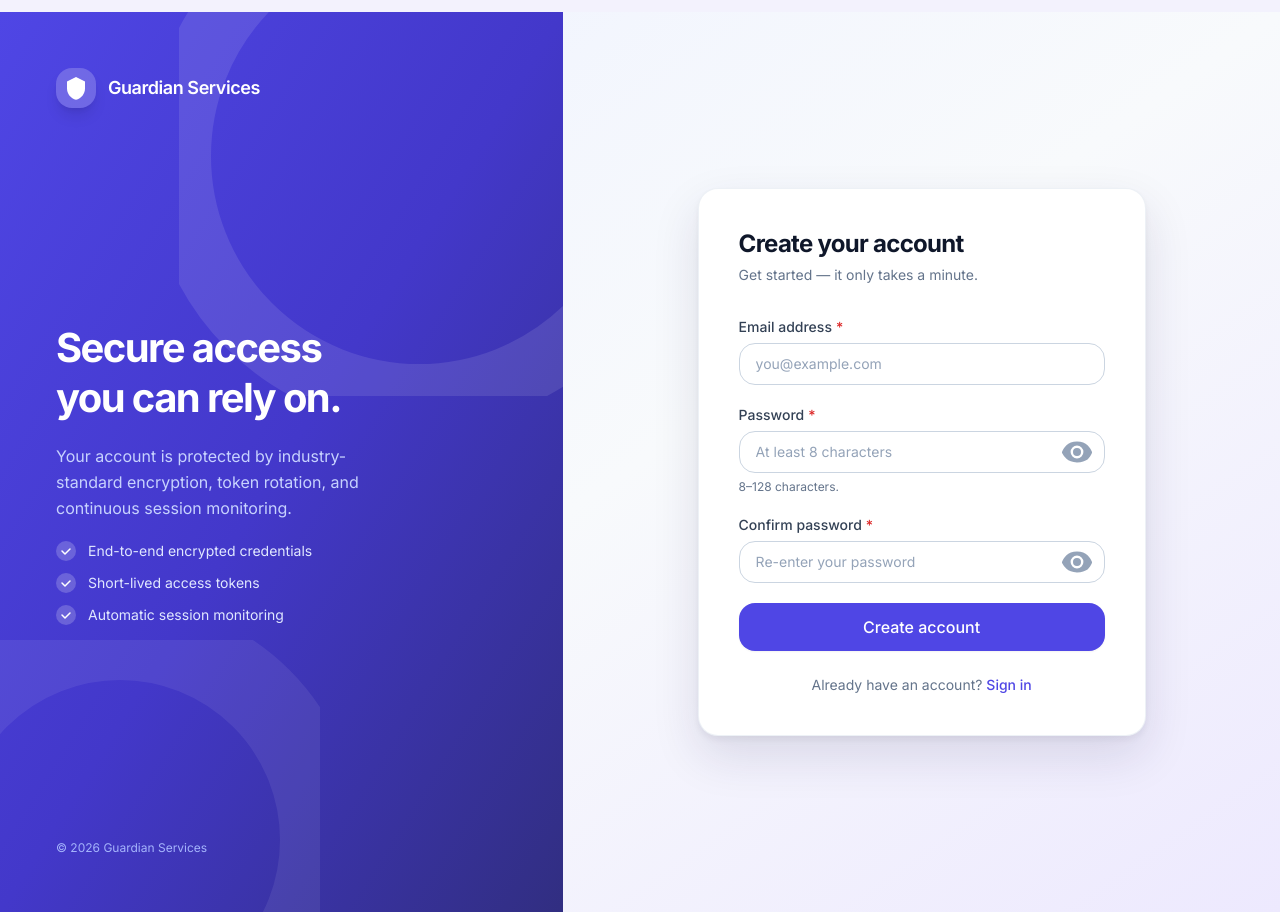
Test case: RegisterPage › shows error when passwords do not match
Type "test@example.com" into the field labelled "Email address*".
click(922, 364); type("test@example.com")  # box [739,343,1105,385]
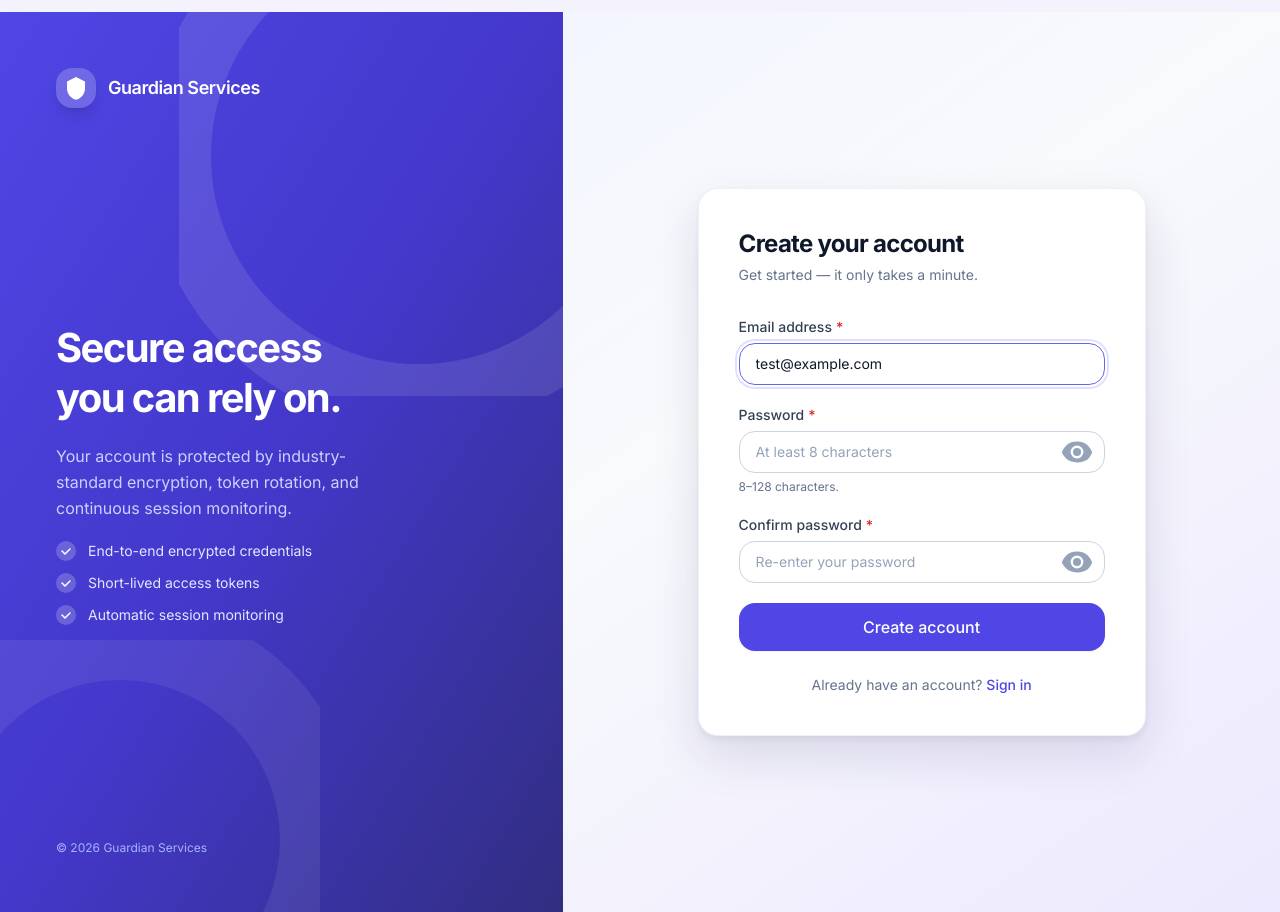
Type "Password1!" into the password field labelled "Password*".
click(922, 452); type("Password1!")  # box [739,431,1105,473]
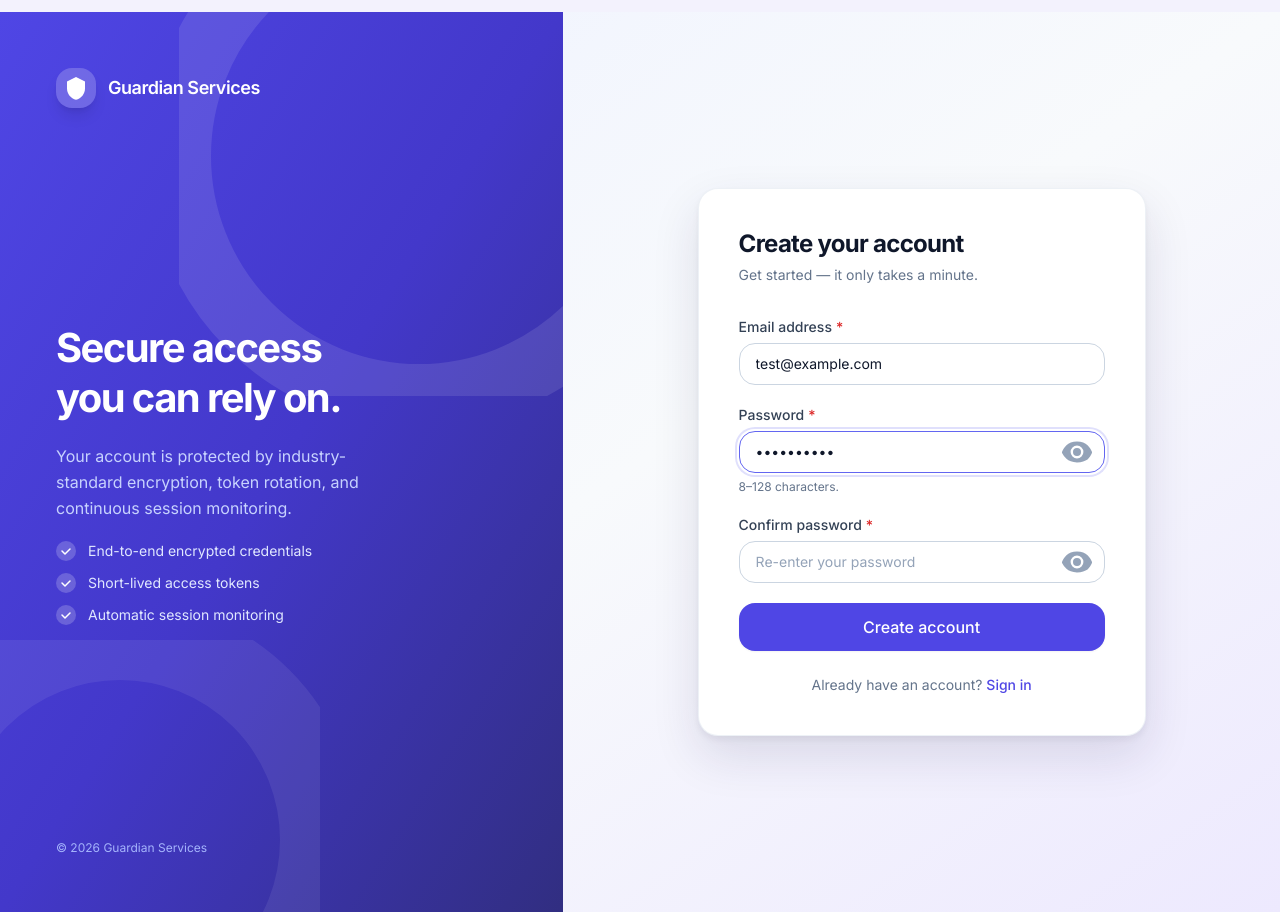
Type "DifferentPassword!" into the password field labelled "Confirm password*".
click(922, 562); type("DifferentPassword!")  # box [739,541,1105,583]
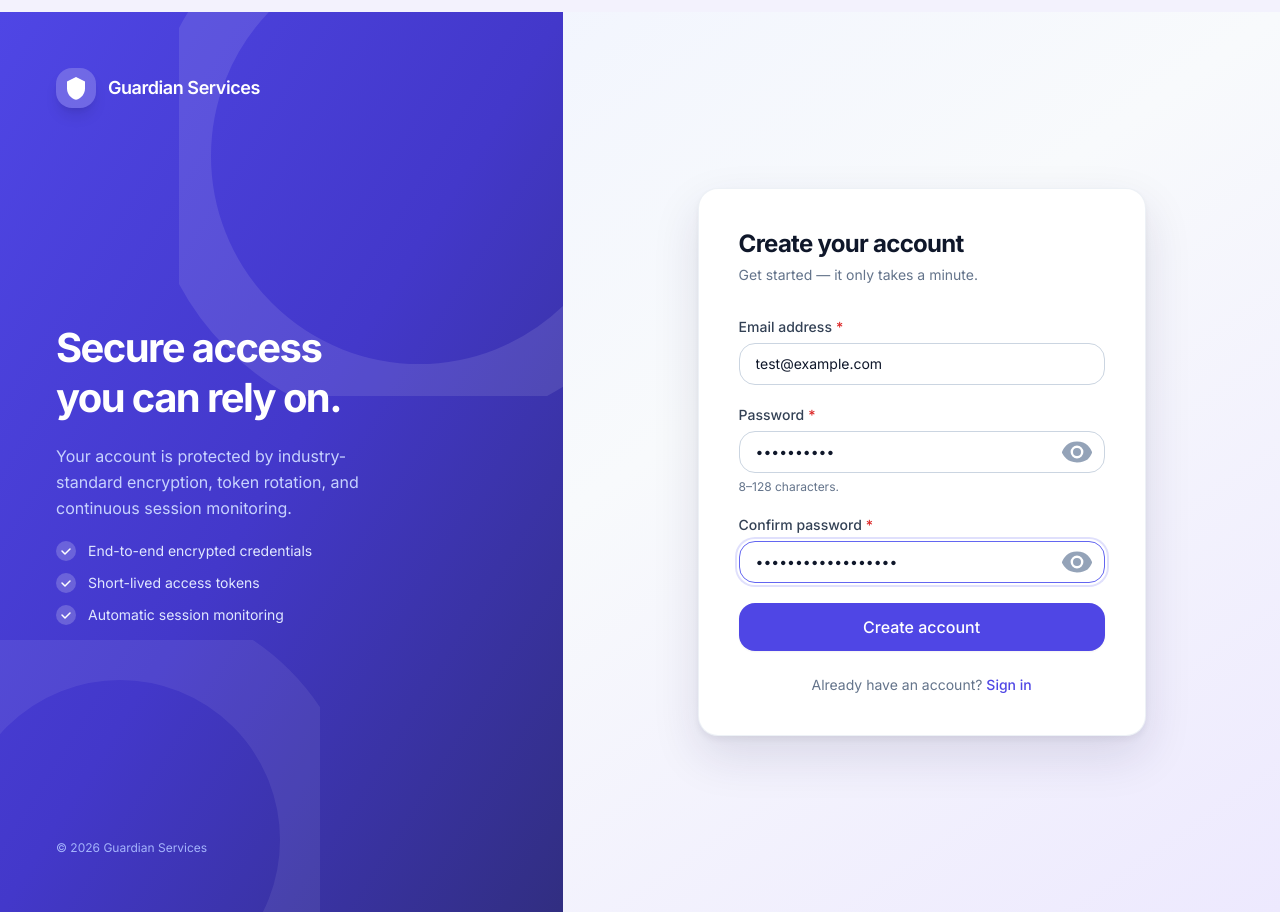
Click the button "Create account".
click(922, 627)  # box [739,603,1105,651]
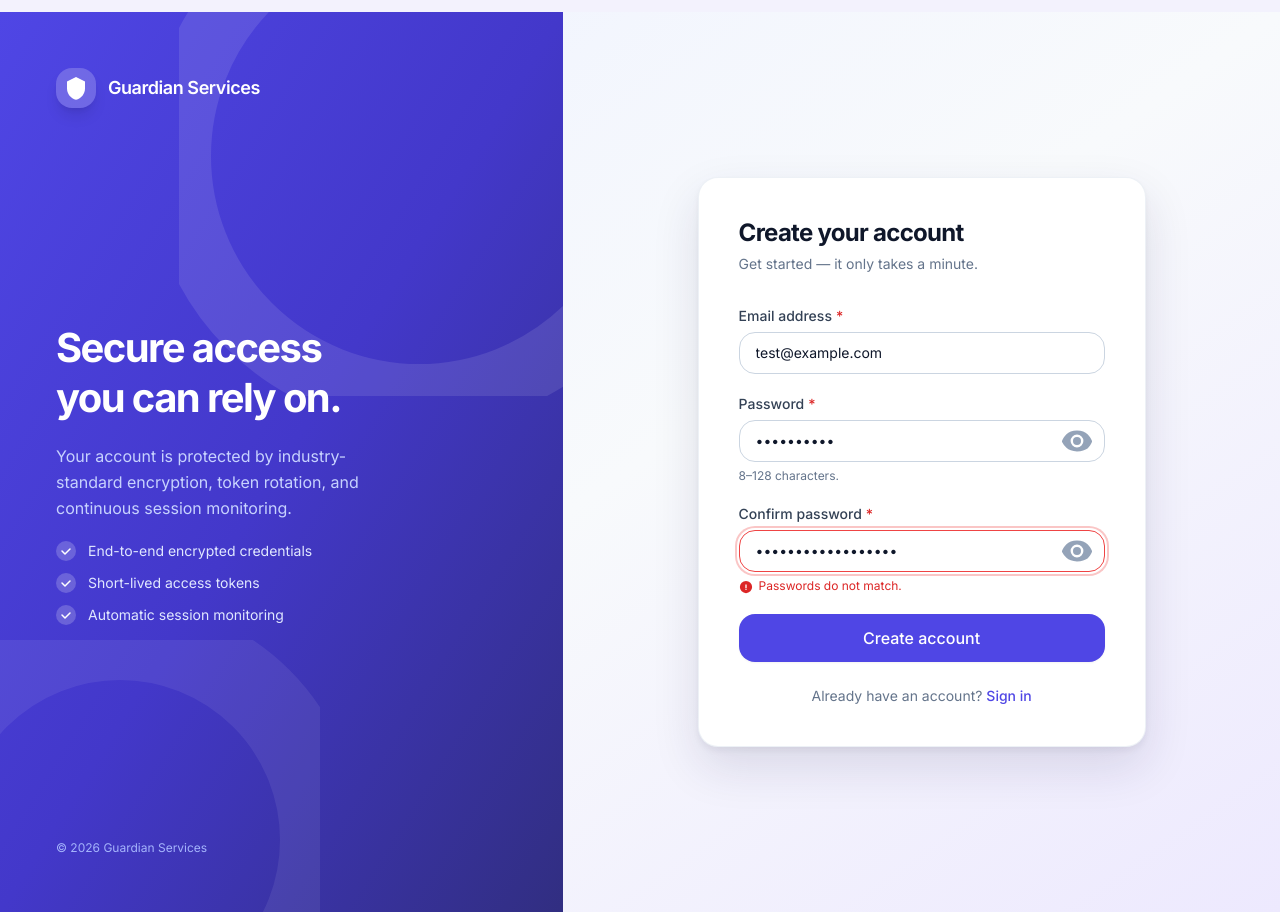
Check: the text "Passwords do not match." is shown, box [739,578,902,594]
